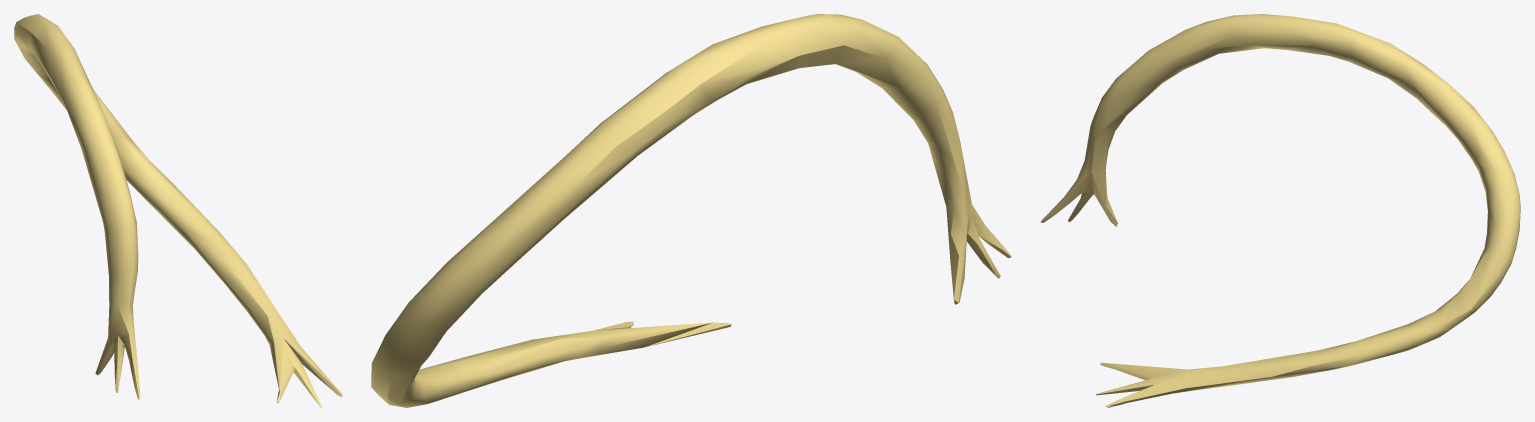
Rendered from fma72940_fj1778.glb.
The picture shows the model from 3 angles, left to right: view 1: azimuth 30°, elevation 25°; view 2: azimuth 150°, elevation 25°; view 3: azimuth 270°, elevation 25°; orthographic projection. The views are drawn at different scales.
Visible parts, largest first — view 1: FMA72940_FJ1778; view 2: FMA72940_FJ1778; view 3: FMA72940_FJ1778.
Boxes of the visible parts, left/top/right/bottom form: FMA72940_FJ1778: left=14, top=14, right=342, bottom=407; FMA72940_FJ1778: left=371, top=14, right=1011, bottom=407; FMA72940_FJ1778: left=1040, top=14, right=1520, bottom=407.
Size of the model in its own units: 0.0255 by 0.0306 by 0.0434.
